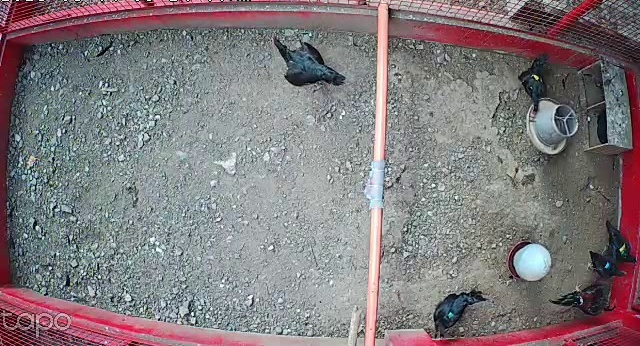Chicken: (271, 32, 346, 90), (430, 284, 483, 342), (518, 50, 551, 114), (596, 218, 638, 262), (585, 249, 627, 279)
Rooster: (547, 277, 619, 317)
Saddle_Color_Blue: (604, 263, 611, 269)
Saddle_Color_Yellow: (532, 73, 541, 82)
Saddle_Color_YellowGreen: (620, 244, 627, 254)
